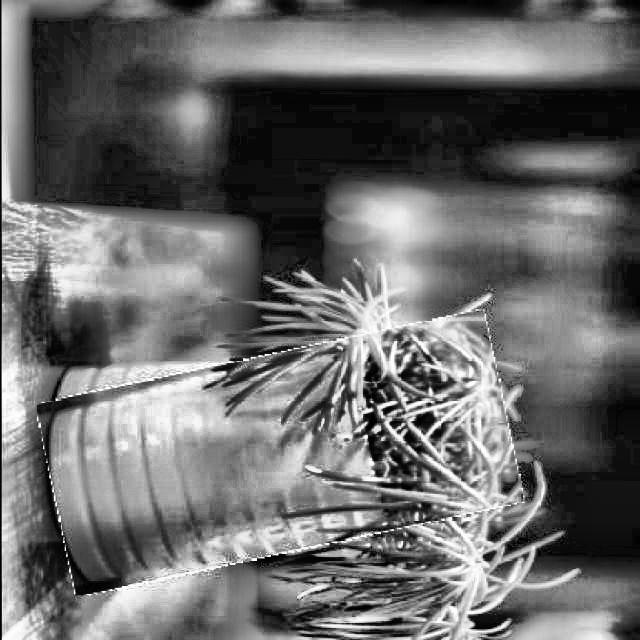plants: (42, 332, 516, 576)
